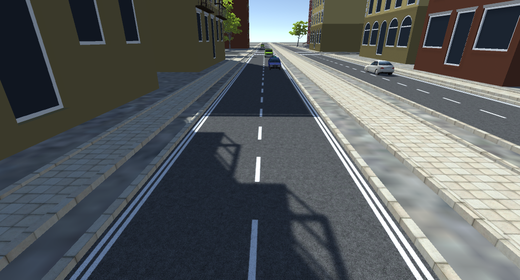centerstrip: (245, 55, 272, 278), (413, 86, 514, 125)
sidestripe: (68, 79, 233, 278), (296, 88, 434, 277)
